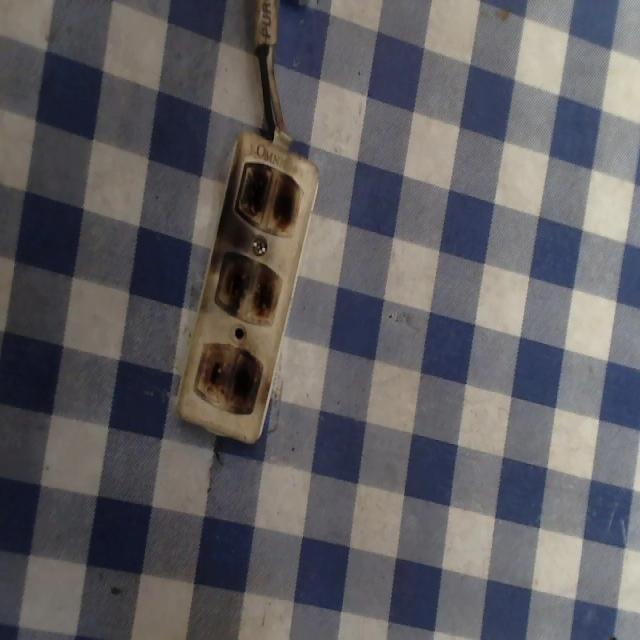-: (192, 339, 273, 420), (237, 161, 308, 235), (210, 249, 276, 323)
